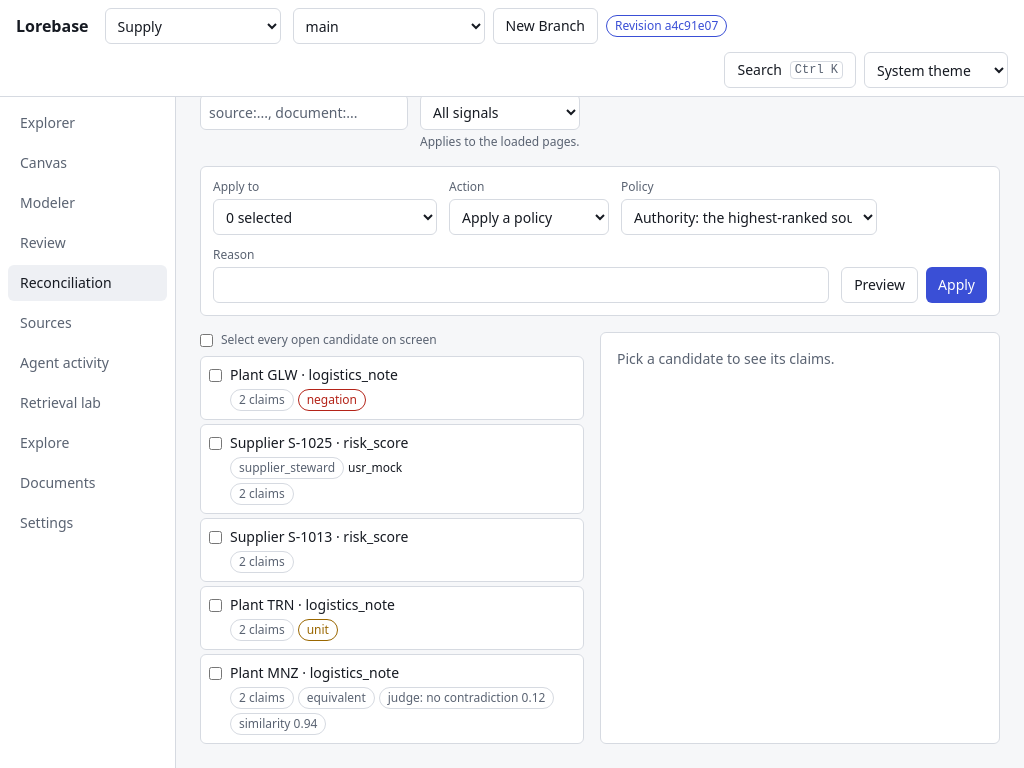
Test: Reconciliation › dismisses a selection in bulk
(page scrolled)
Click the checkbox named "Select Plant TRN · logistics_note".
click(216, 606)  # box [209,599,222,612]
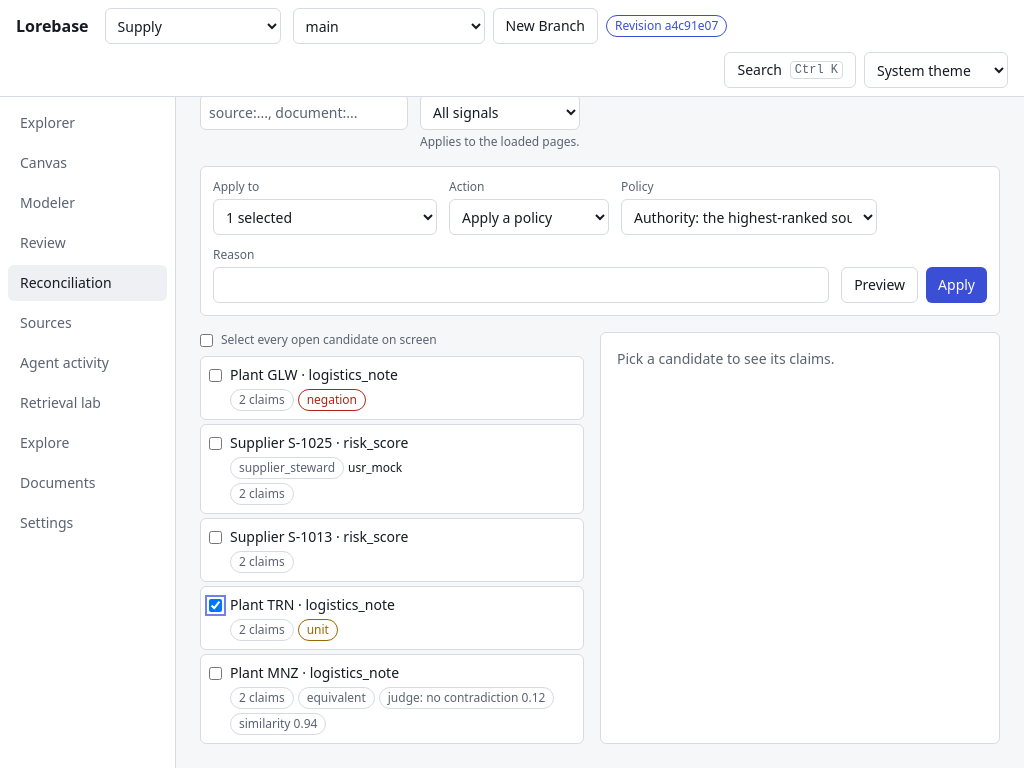
Click the checkbox named "Select Plant GLW · logistics_note".
click(216, 376)  # box [209,369,222,382]
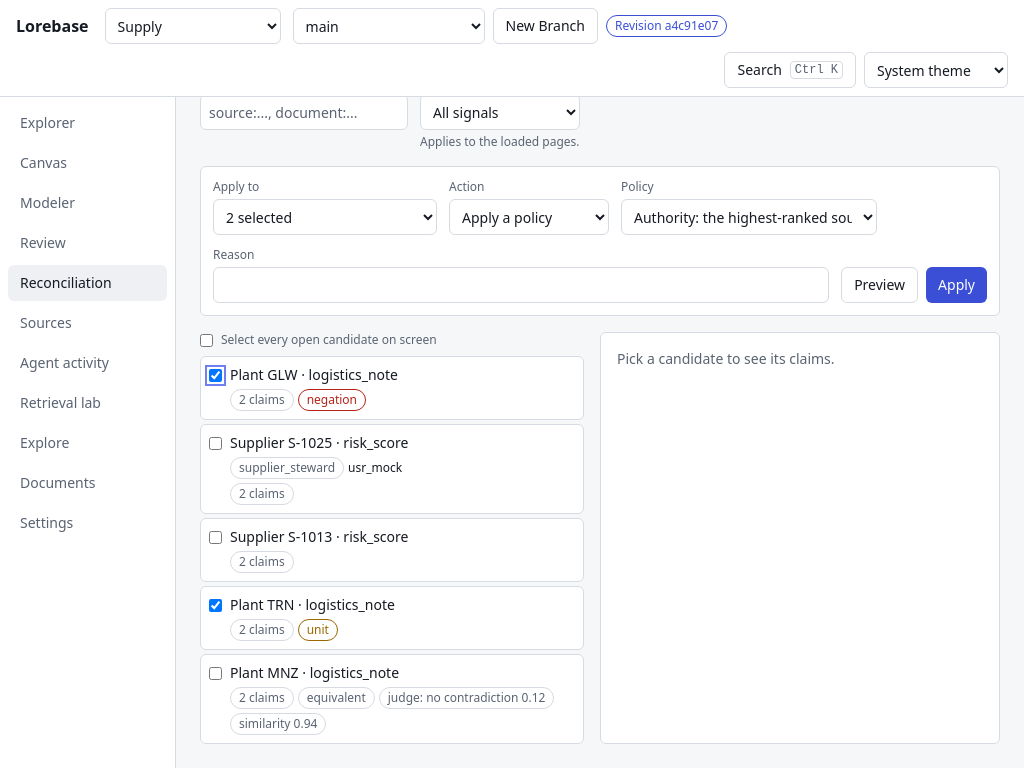
Select "Dismiss" in the dropdown labelled "Action" at (529, 217), box [449,199,609,235]
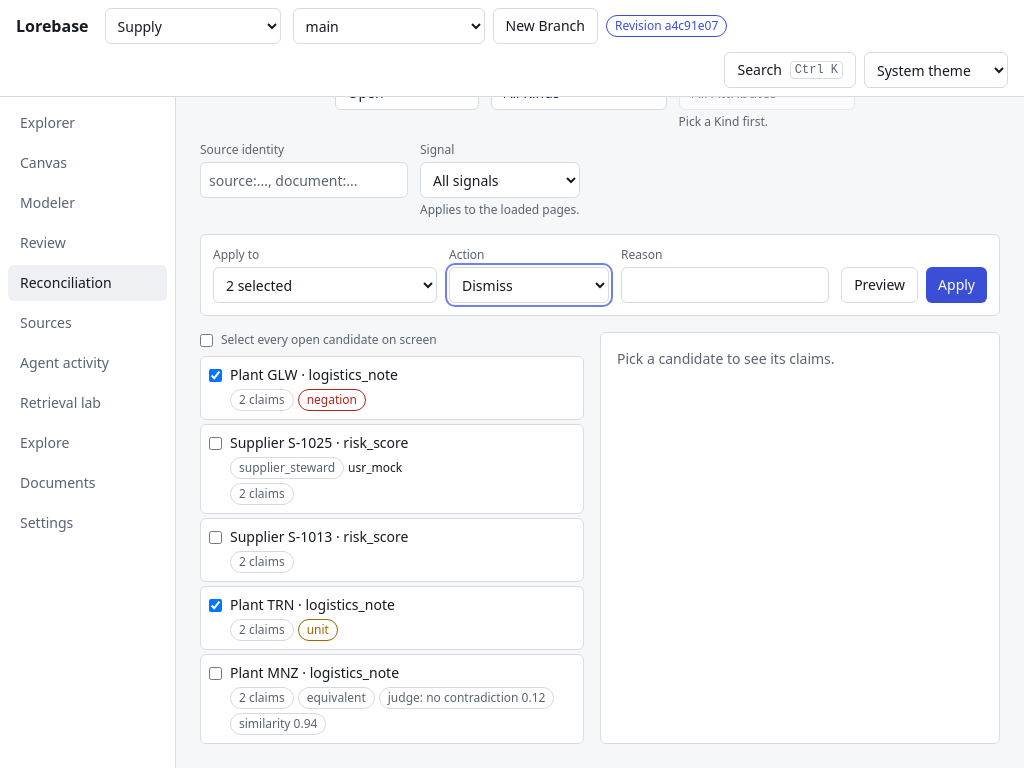
Type "Survey superseded." into the field labelled "Reason".
click(725, 285); type("Survey superseded.")  # box [621,267,829,303]
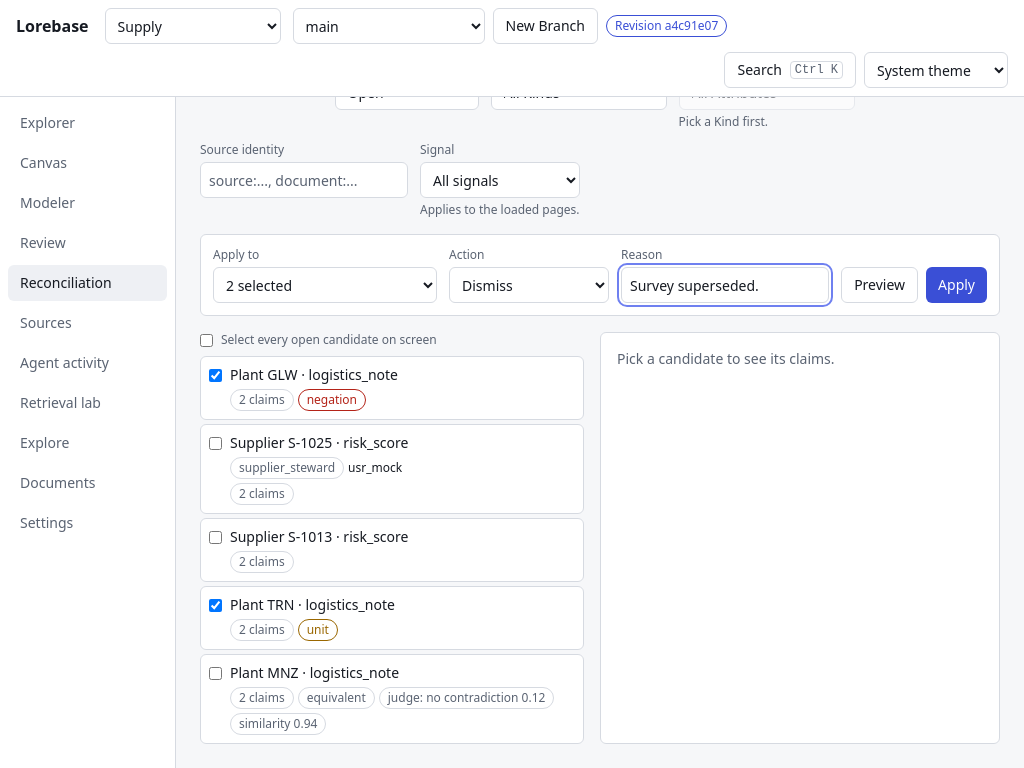
Click the button "Apply".
click(957, 285)  # box [926,267,987,303]
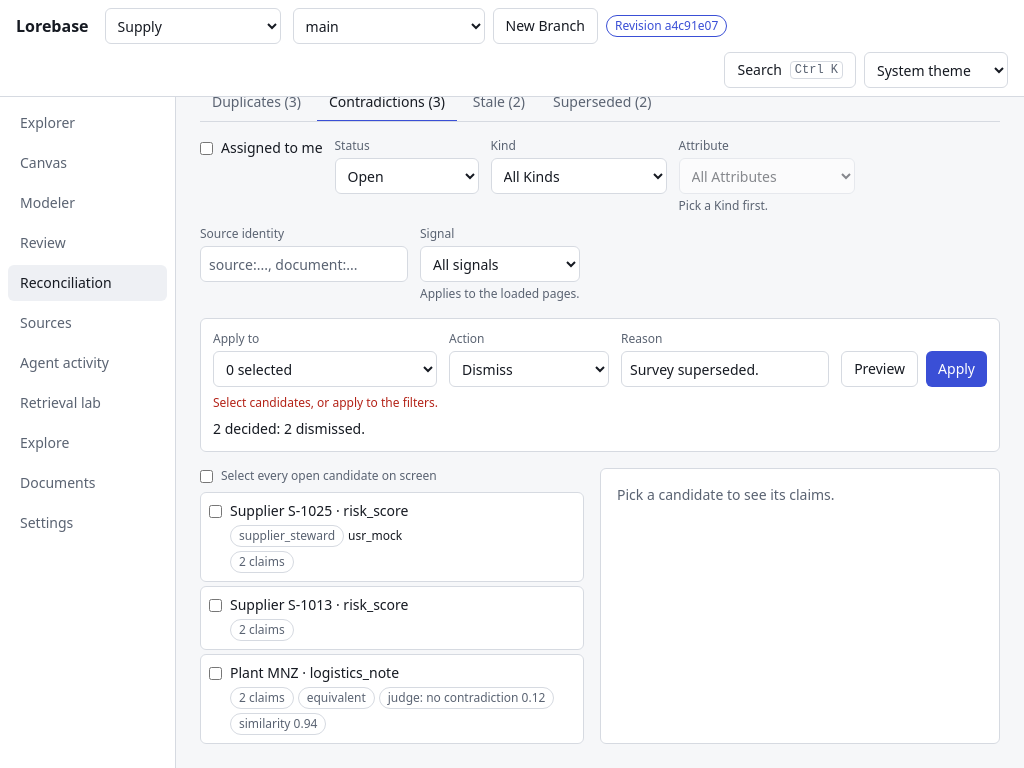
Check: the text "2 decided: 2 dismissed." is shown, box [213,419,365,438]
Check: the tab "Contradictions (3)" is shown, box [317,97,457,122]
